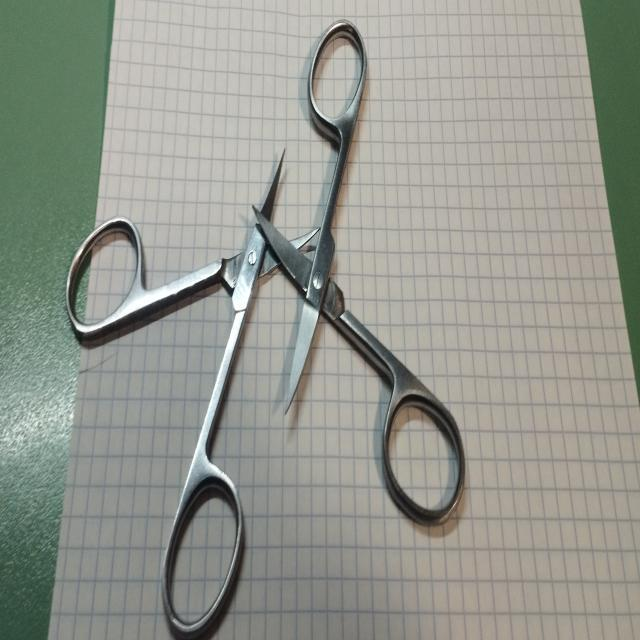tesoura: (64, 143, 320, 640), (252, 19, 469, 532)
